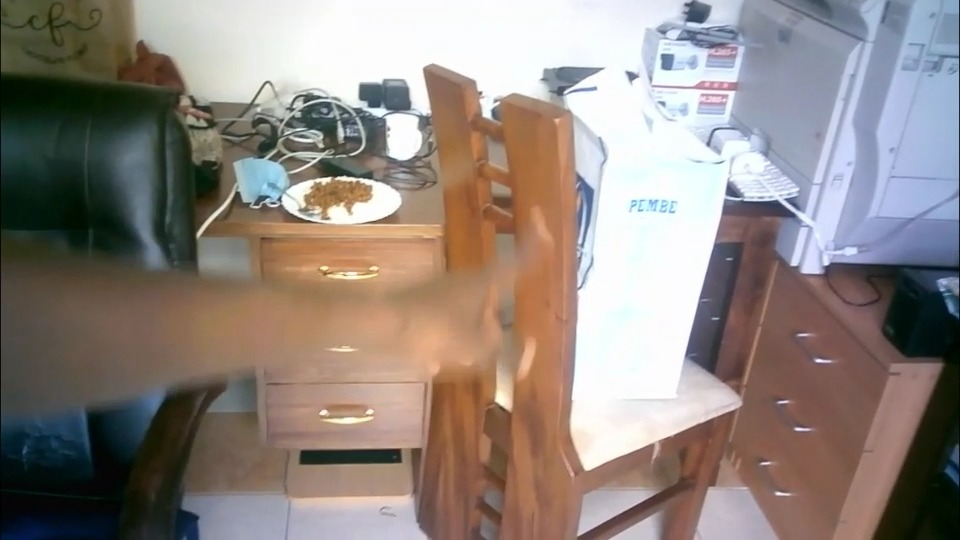wheat_flour_blue_label: (577, 77, 728, 403)
